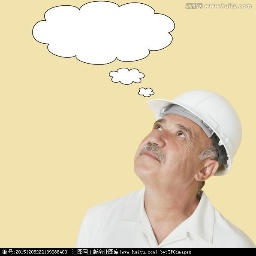helmet: (142, 88, 244, 180)
